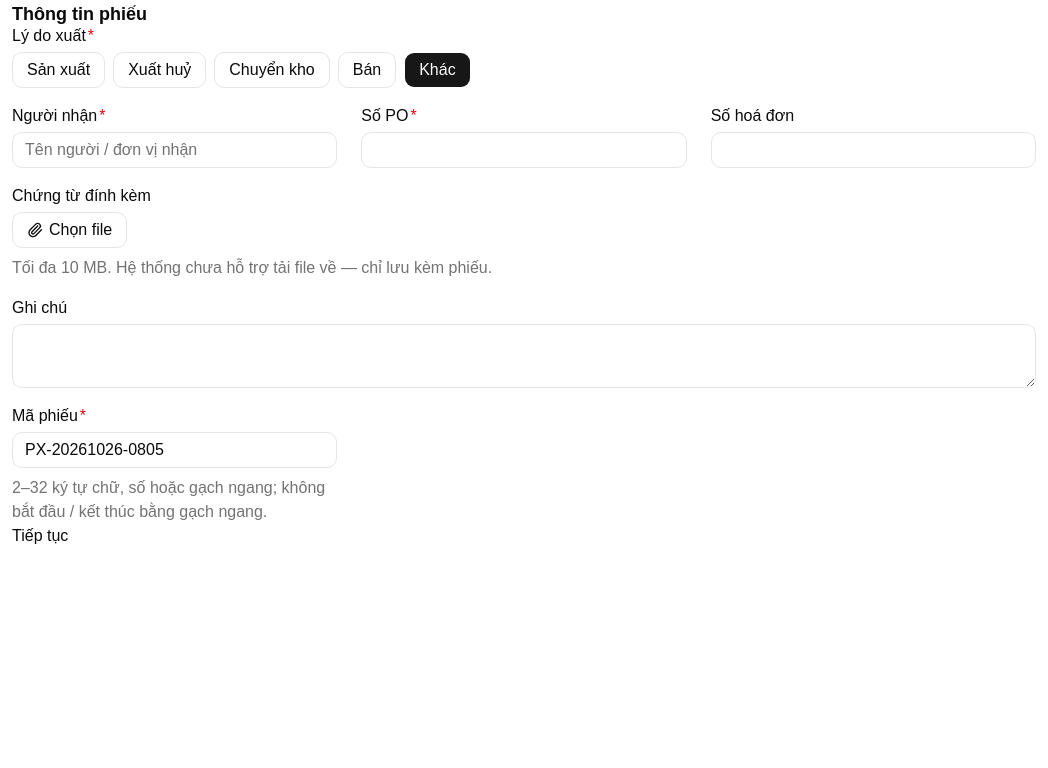
Scenario: ExportFormInfoStep › đổi lý do sang Chuyển kho → ô đổi thành chọn kho
This screenshot has width=1048, height=768.
Click the radio button labelled "Chuyển kho" at (272, 70), box [214, 52, 330, 88]
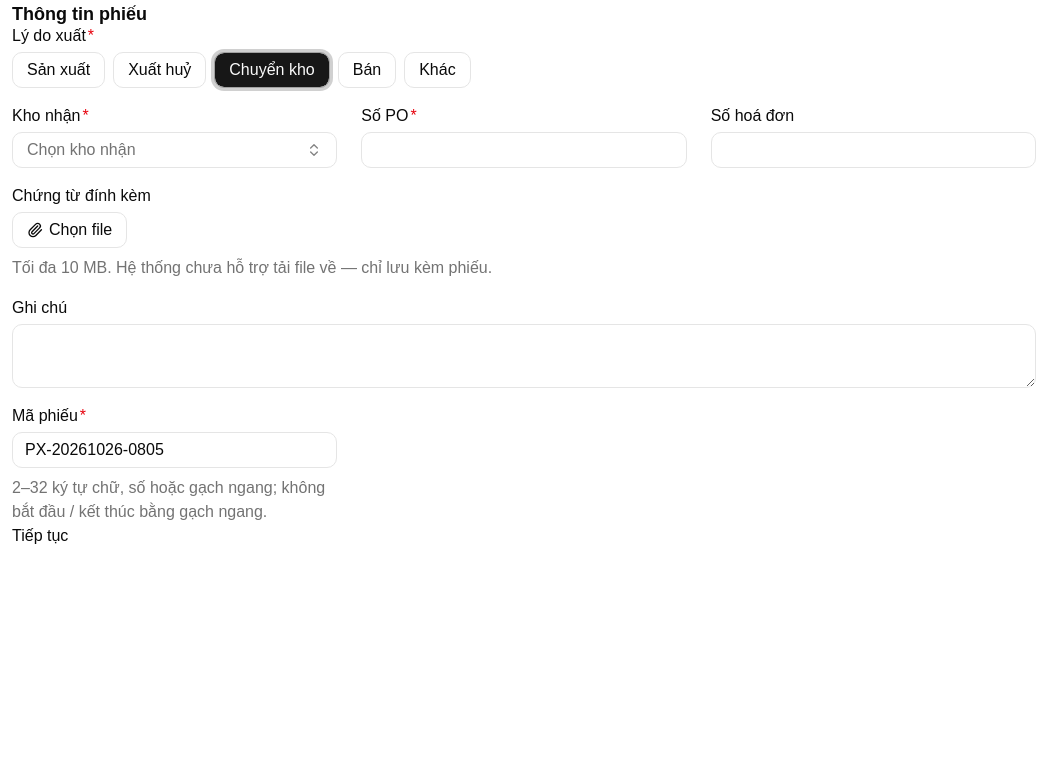
Check: the dropdown labelled "Chọn kho nhận" is shown, box [12, 132, 337, 168]
